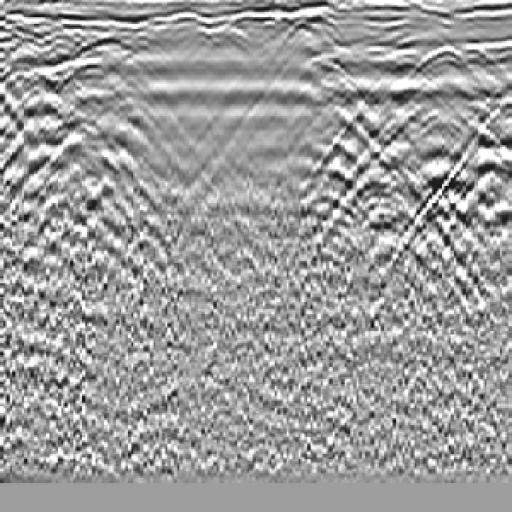non-metallic: (321, 30, 512, 272), (33, 31, 207, 242)
